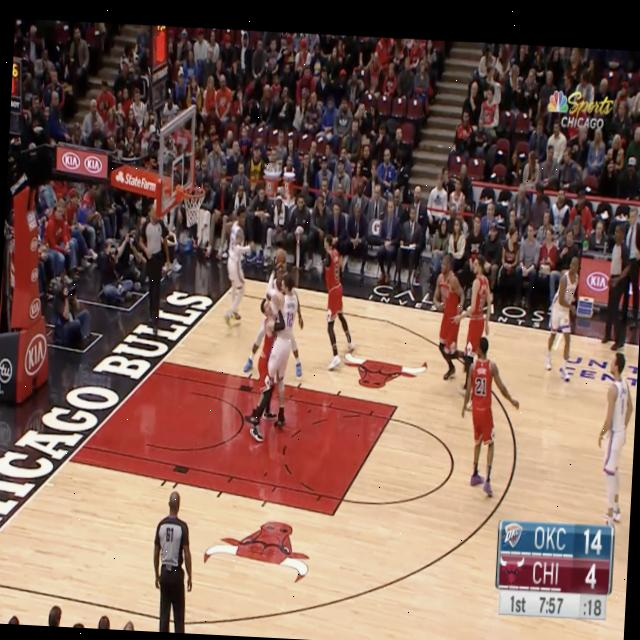foul: (231, 260, 305, 450)
no foul: (418, 255, 496, 409)
